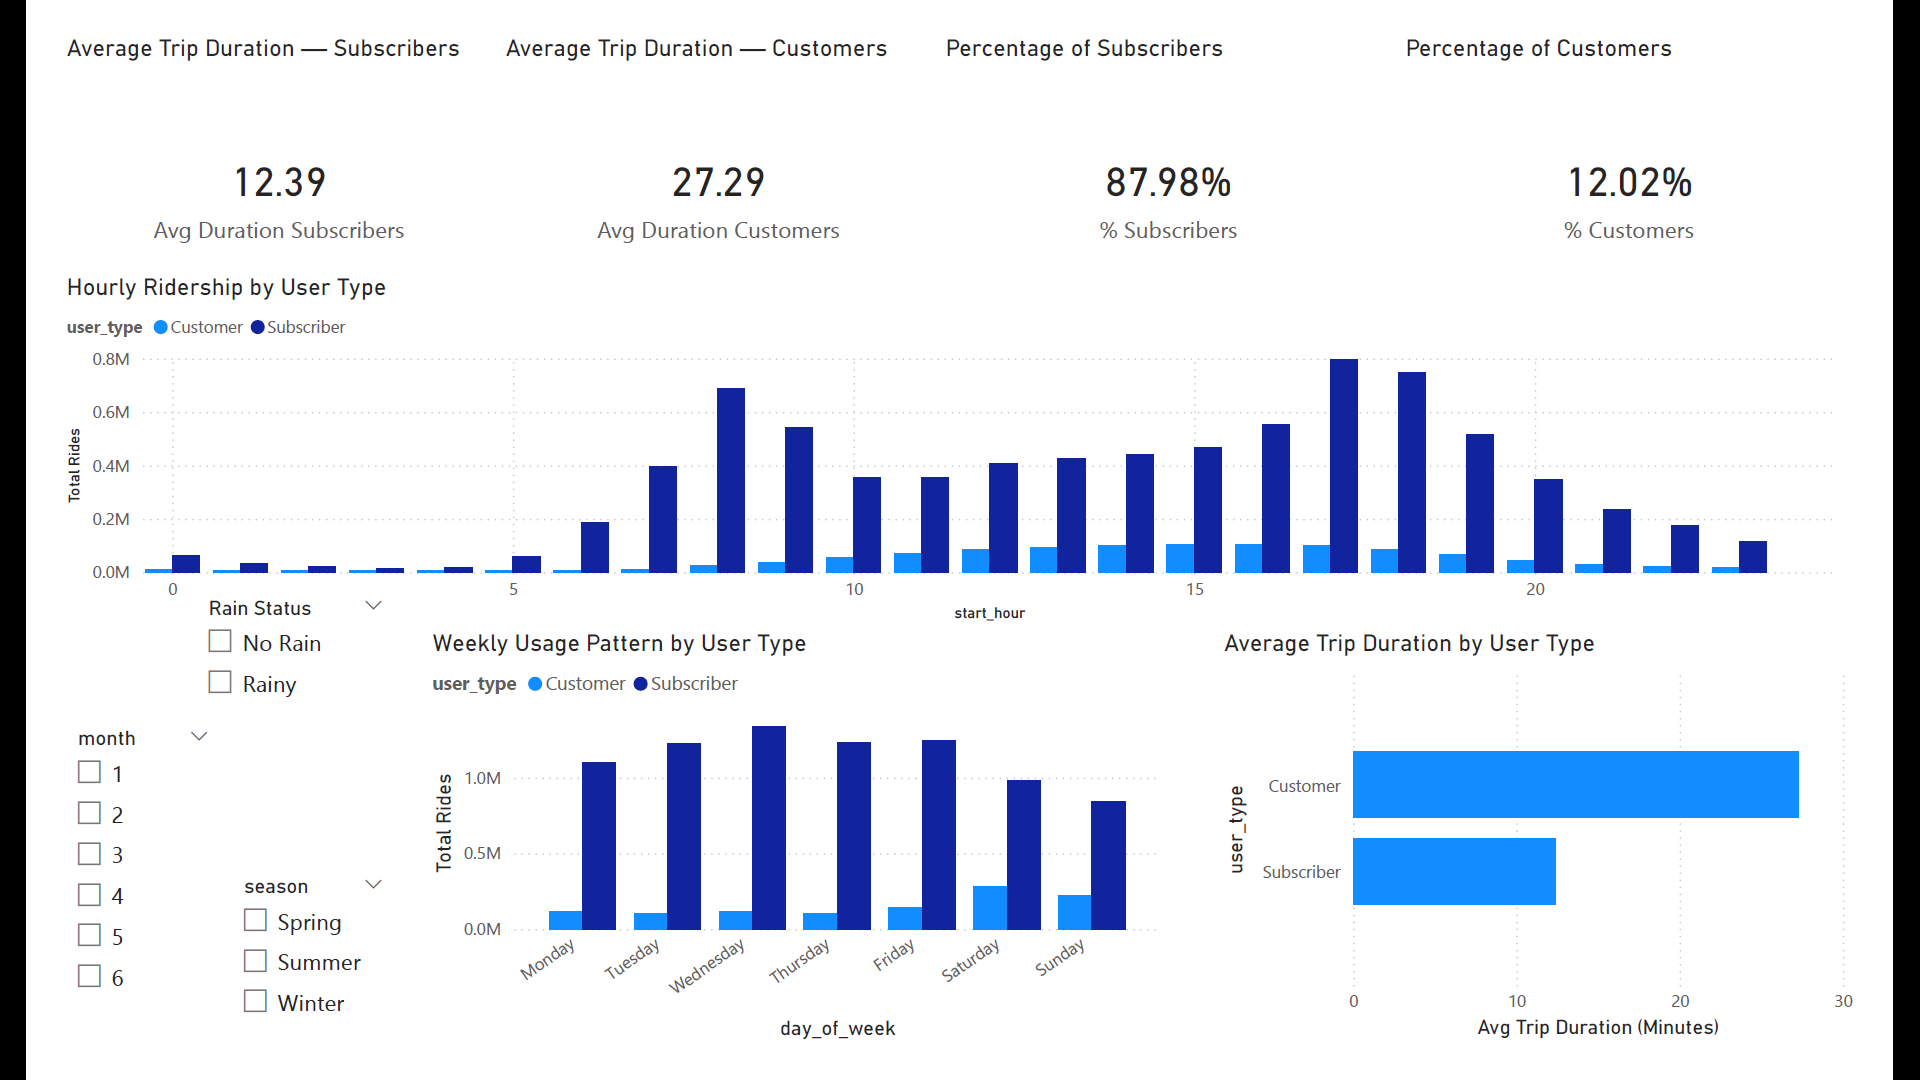

The dashboard page shown, as its layout file describes it:
{"tool":"powerbi","page":{"name":"Subscriber VS Customer Analysis","canvas":[1280,720],"ordinal":1},"visuals":[{"type":"card","title":"Average Trip Duration — Subscribers","fields":{"Values":["citibike_staging.Avg Duration Subscribers"]},"box":[0,0,311.7,210],"z":0},{"type":"card","title":"Average Trip Duration — Customers","fields":{"Values":["citibike_staging.Avg Duration Customers"]},"box":[311.7,0,313.3,210],"z":1000},{"type":"card","title":"Percentage of Subscribers","fields":{"Values":["citibike_staging.% Subscribers"]},"box":[625,0,326.7,210],"z":2000},{"type":"card","title":"Percentage of Customers","fields":{"Values":["citibike_staging.% Customers"]},"box":[951.7,0,328.3,210],"z":3000},{"type":"clusteredColumnChart","title":"Hourly Ridership by User Type","fields":{"Y":["citibike_staging.Total Rides"],"Series":["citibike_staging.user_type"],"Category":["citibike_staging.start_hour"]},"box":[0,170,1268.3,253.3],"z":4000},{"type":"clusteredColumnChart","title":"Weekly Usage Pattern by User Type","fields":{"Category":["citibike_staging.day_of_week"],"Y":["citibike_staging.Total Rides"],"Series":["citibike_staging.user_type"]},"box":[260,423.3,528.3,296.7],"z":5000},{"type":"clusteredBarChart","title":"Average Trip Duration by User Type","fields":{"Y":["citibike_staging.Avg Trip Duration (Minutes)"],"Category":["citibike_staging.user_type"]},"box":[823.3,423.3,456.7,296.7],"z":6000},{"type":"slicer","fields":{"Values":["citibike_staging.month"]},"box":[0,488.3,118.3,231.7],"z":7000},{"type":"slicer","fields":{"Values":["nyc_weather_staging.Rain Status"]},"box":[93.3,395,148.3,93.3],"z":8000},{"type":"slicer","fields":{"Values":["citibike_staging.season"]},"box":[118.3,593.3,123.3,126.7],"z":9000}]}

Visuals, with their boxes in screenshot pixels (x1, y1, x2, y2), scaled from the page's 1280x720 canvas onto the 1920x1080 screenshot:
"Average Trip Duration — Subscribers" card: l=0, t=0, r=468, b=315
"Average Trip Duration — Customers" card: l=468, t=0, r=938, b=315
"Percentage of Subscribers" card: l=938, t=0, r=1428, b=315
"Percentage of Customers" card: l=1428, t=0, r=1919, b=315
"Hourly Ridership by User Type" clusteredColumnChart: l=0, t=255, r=1902, b=635
"Weekly Usage Pattern by User Type" clusteredColumnChart: l=390, t=635, r=1182, b=1079
"Average Trip Duration by User Type" clusteredBarChart: l=1235, t=635, r=1919, b=1079
slicer - citibike_staging.month: l=0, t=732, r=177, b=1079
slicer - nyc_weather_staging.Rain Status: l=140, t=592, r=362, b=732
slicer - citibike_staging.season: l=177, t=890, r=362, b=1079
